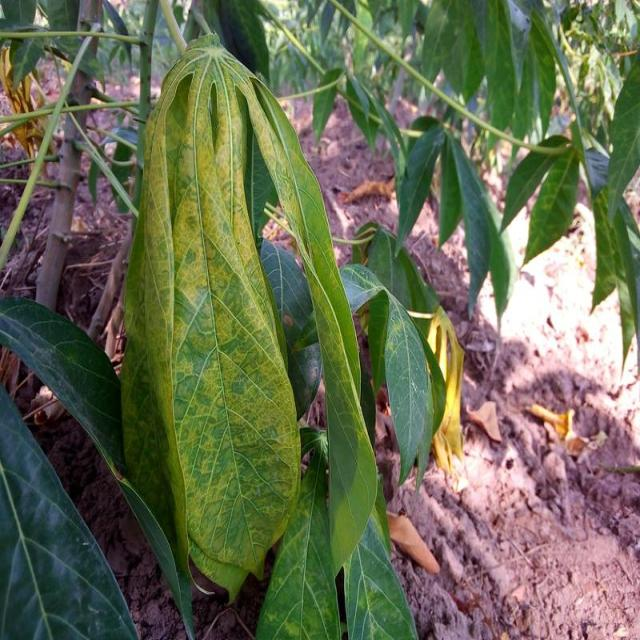cassava leaf: (119, 31, 382, 609), (1, 381, 141, 638)
